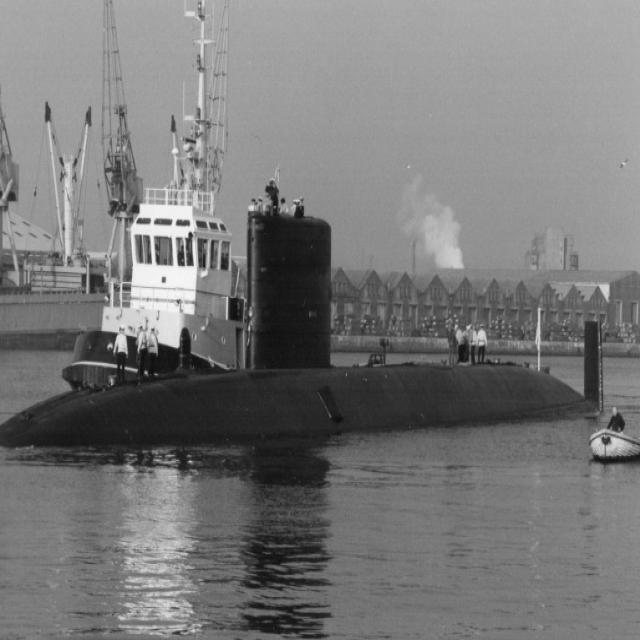submarine: (1, 218, 607, 451)
